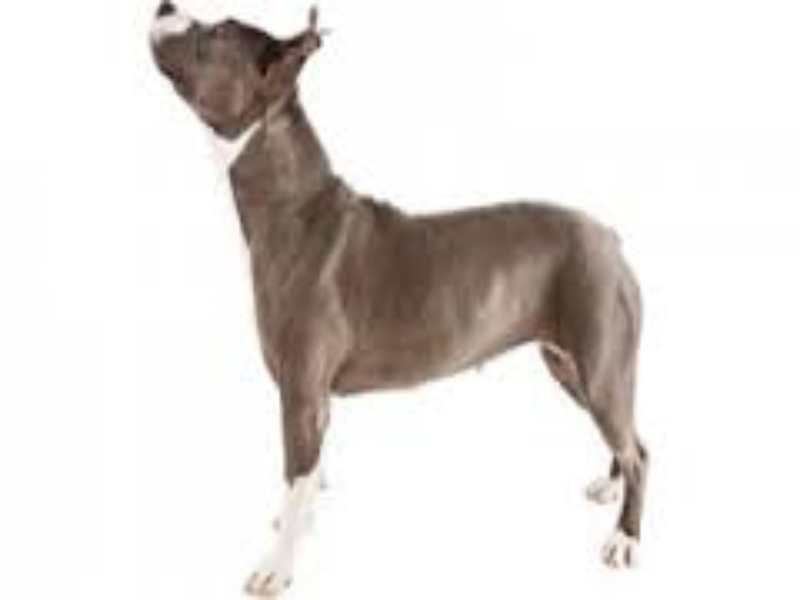dog: (143, 4, 657, 599)
